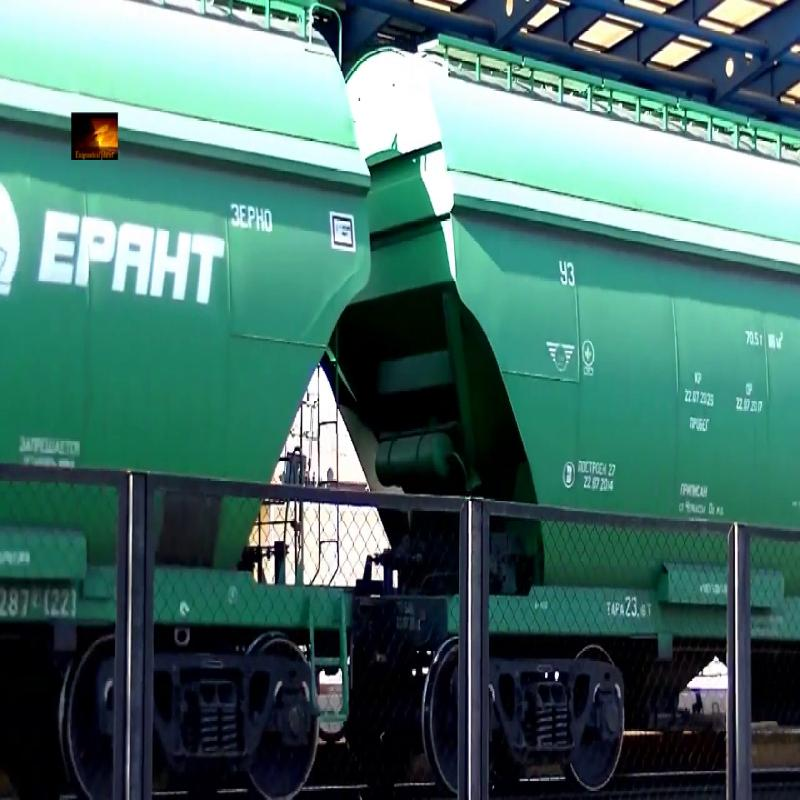train: (405, 1, 800, 770), (1, 1, 373, 763)
